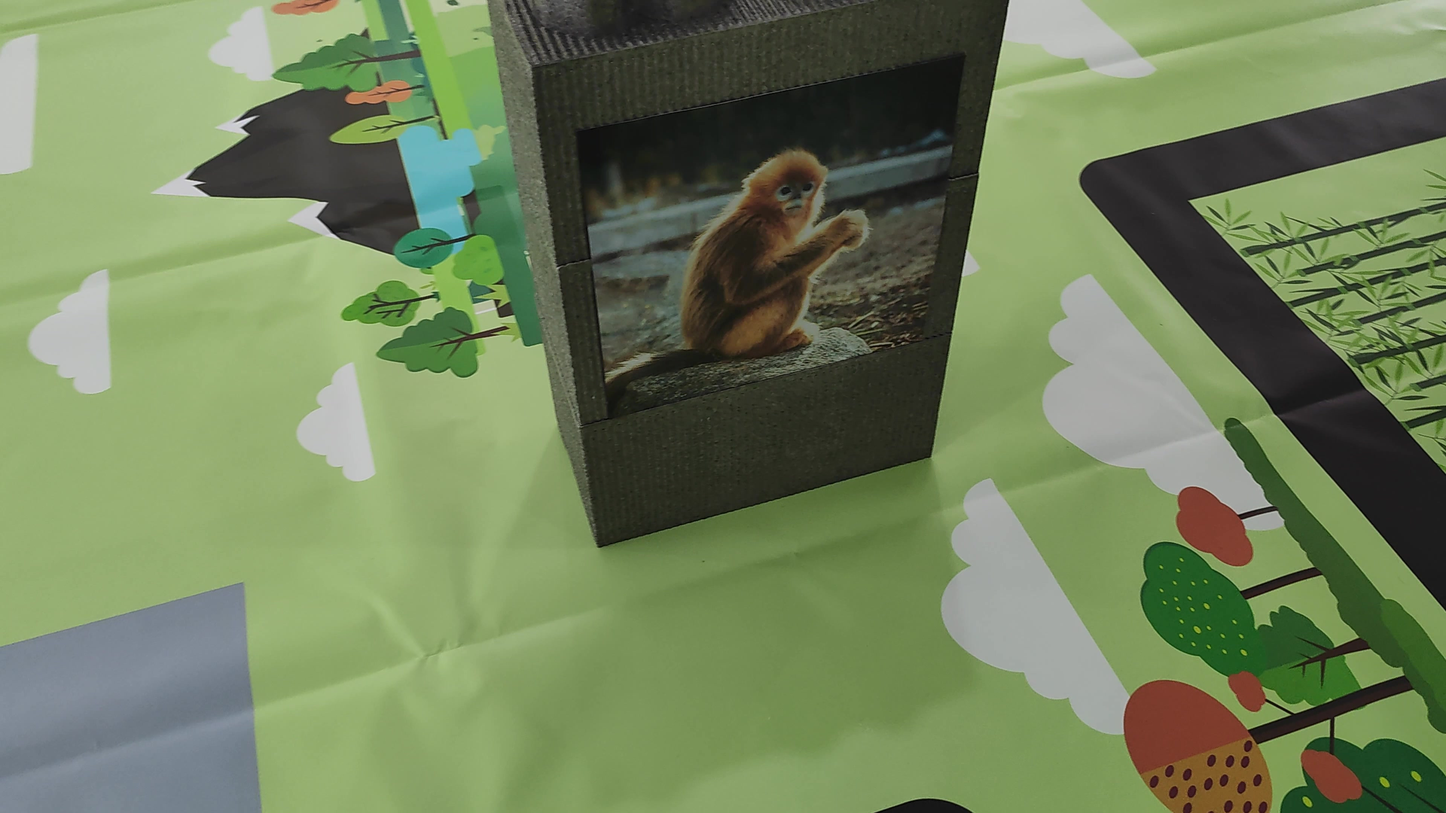monkey: (648, 125, 927, 390)
